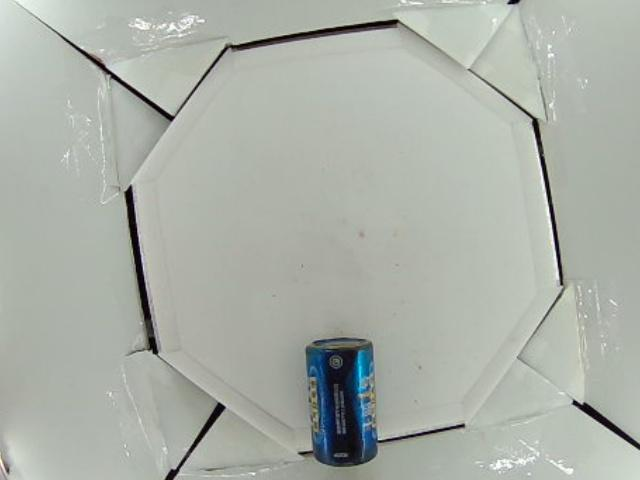Battery: (307, 337, 378, 465)
